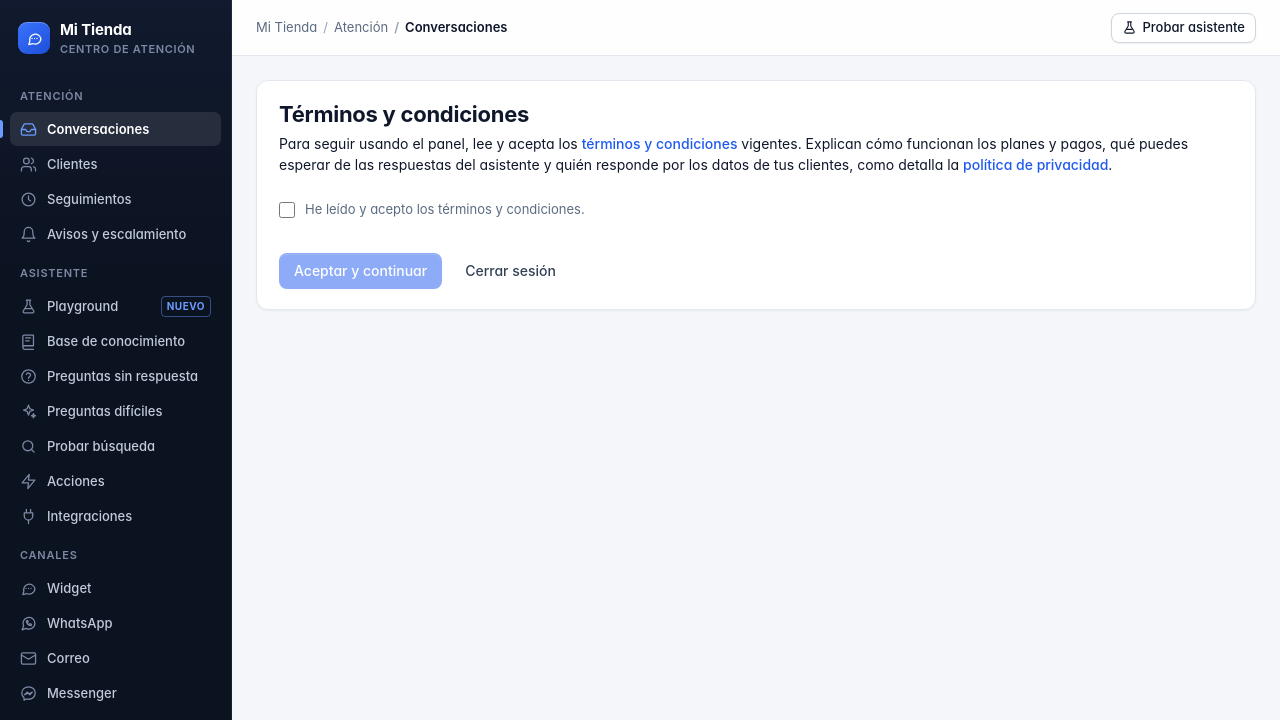
Test: Terms of service › stand in for the panel until an operator who has not accepted them does
This screenshot has width=1280, height=720.
Expected: the heading "Términos y condiciones" is shown, [279, 101, 529, 127]
Expected: the button "Aceptar y continuar" is disabled, [279, 253, 442, 289]
Click the checkbox labelled "He leído y acepto los términos y condiciones.": (287, 210) [279, 202, 295, 218]
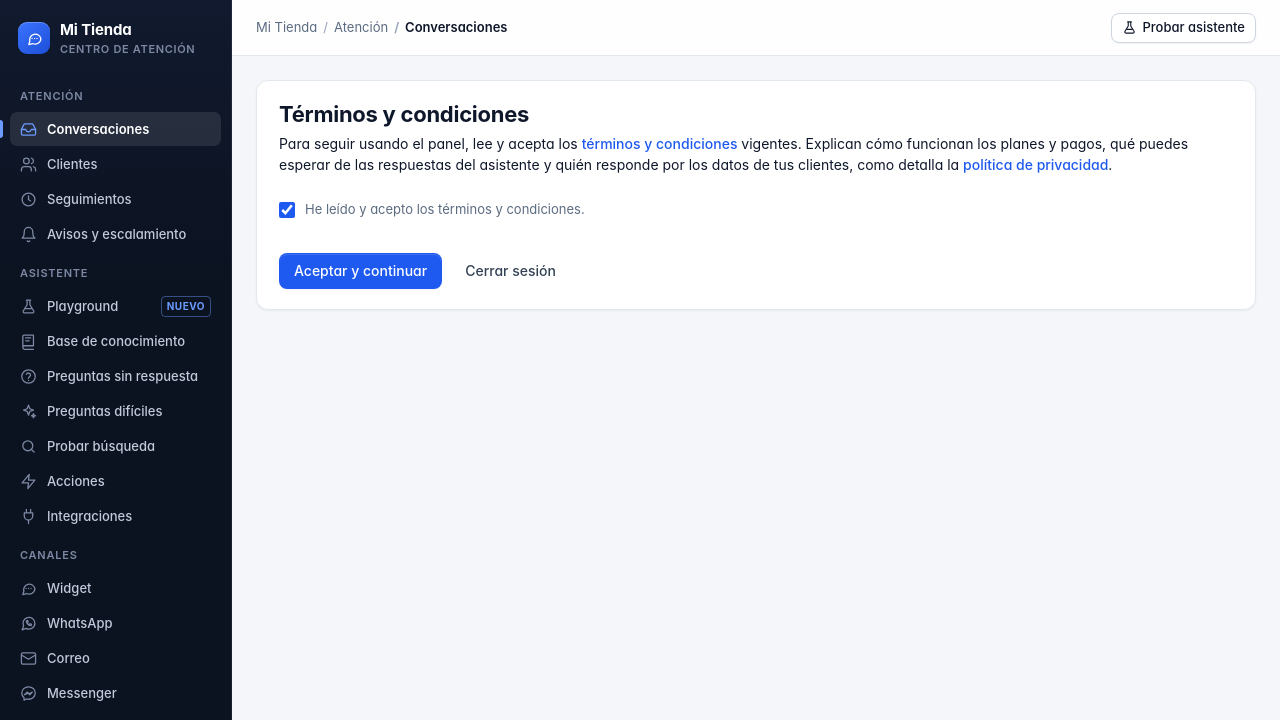
Click the button "Aceptar y continuar": (361, 271) [279, 253, 442, 289]
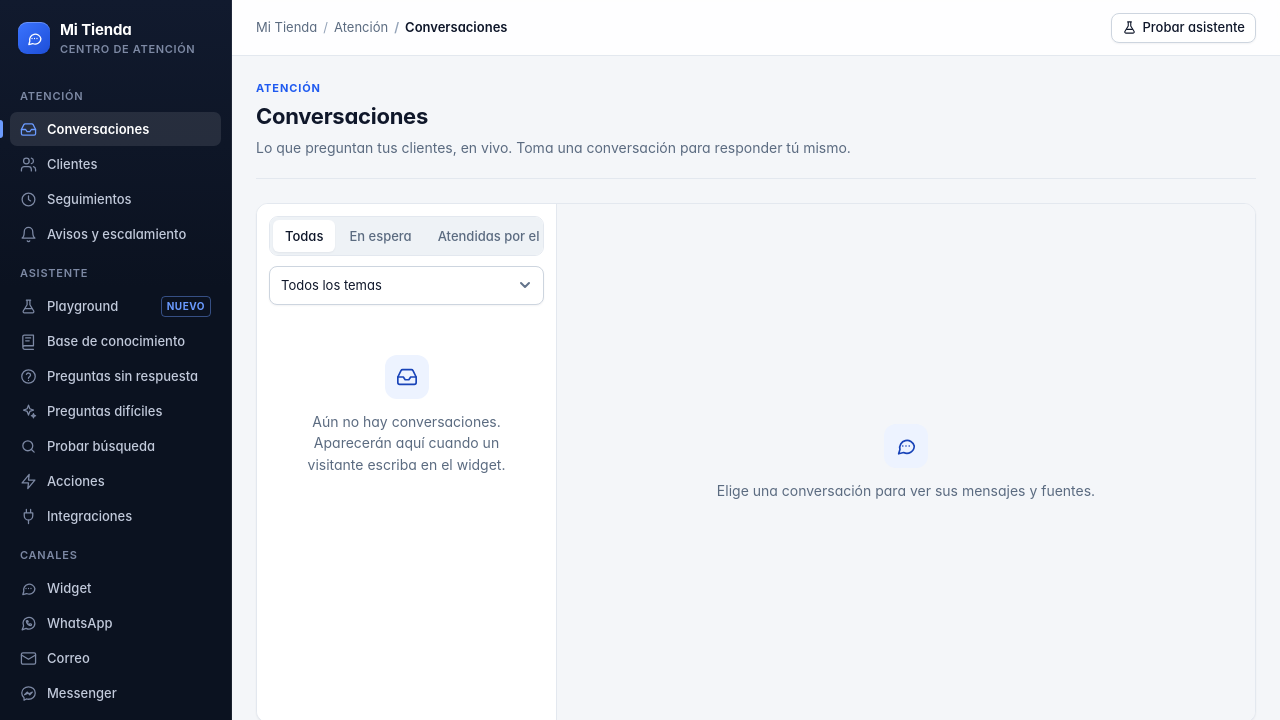
Expected: the heading "Conversaciones" is shown, [256, 103, 428, 129]
